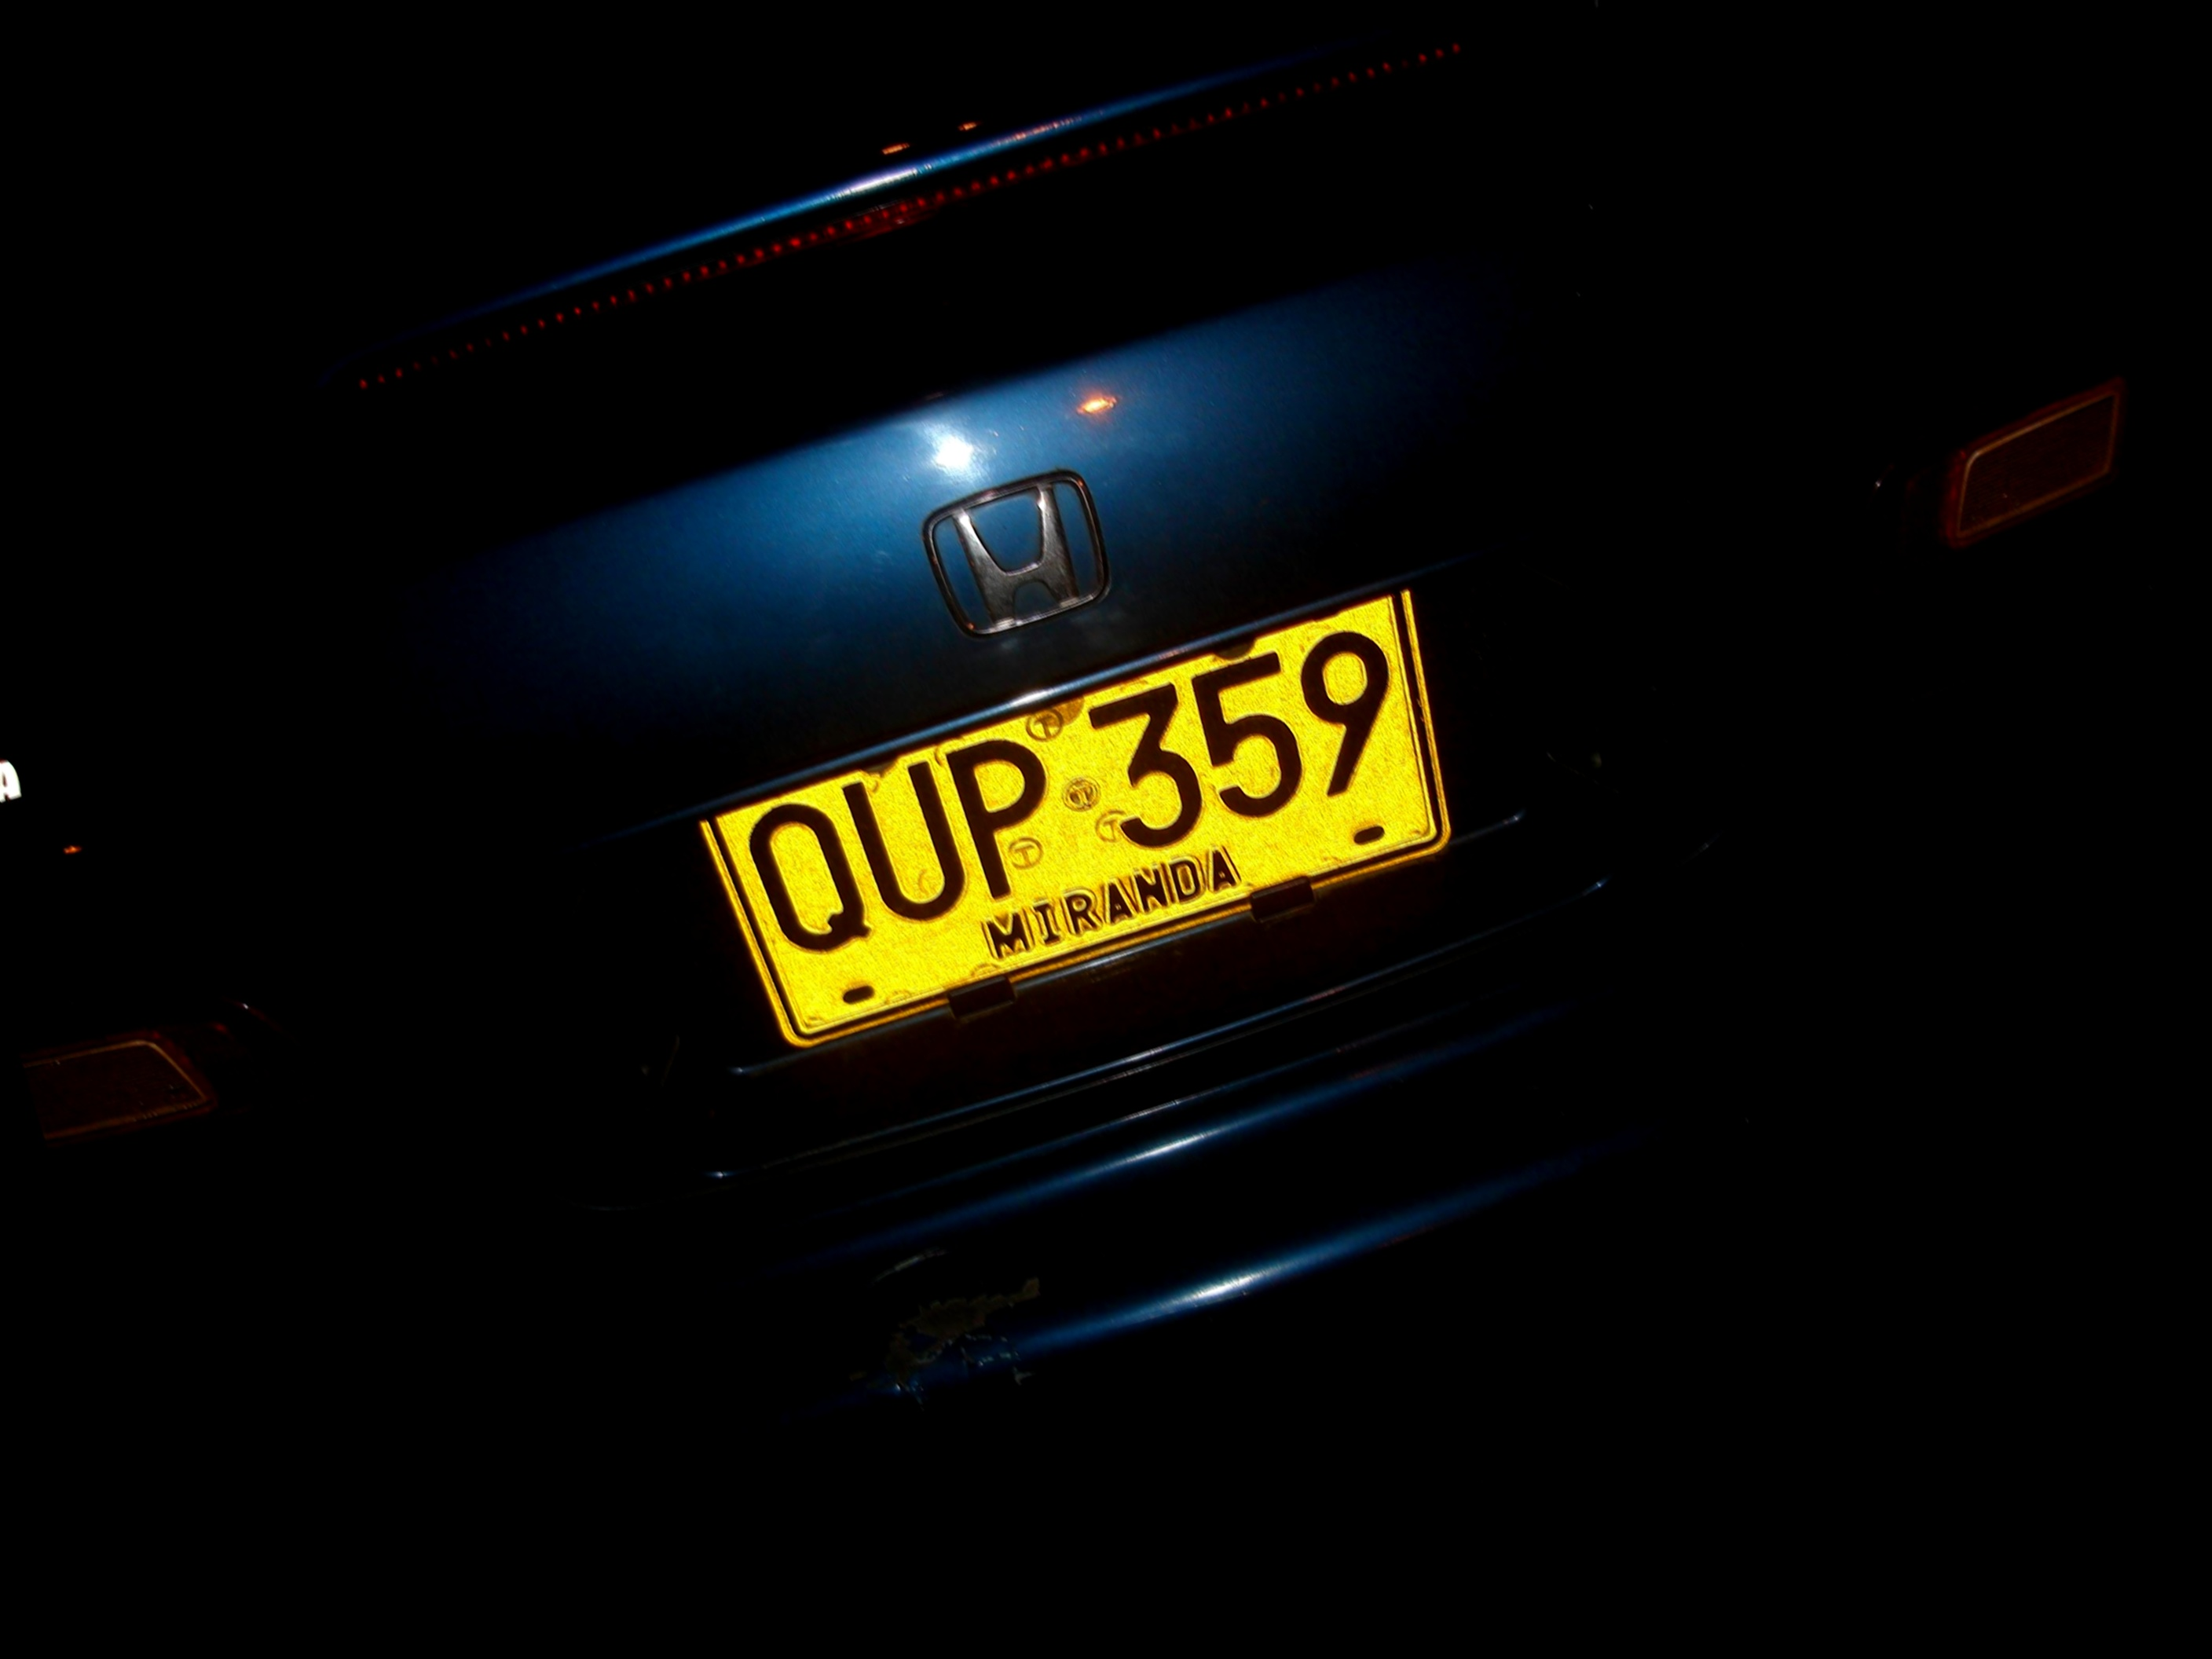placas: (675, 575, 1496, 1071)
